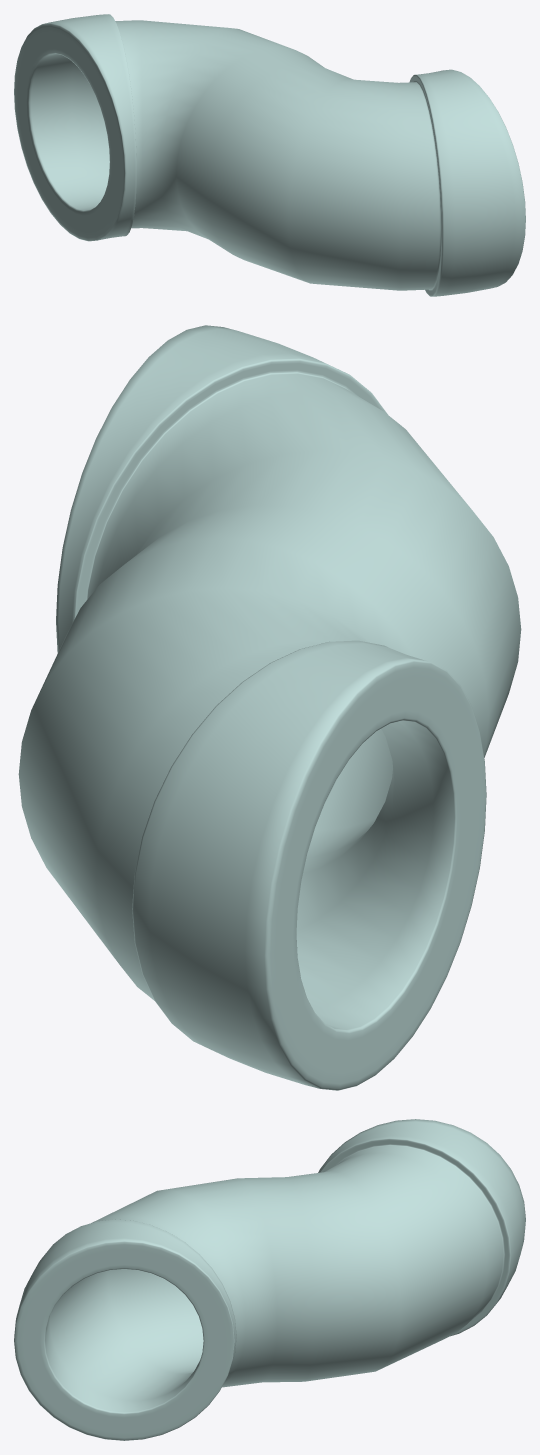
Rendered from pipe_v1_offset.FBX.
The picture shows the model from 3 angles, top to bottom: view 1: azimuth 30°, elevation 25°; view 2: azimuth 150°, elevation 25°; view 3: azimuth 270°, elevation 25°; orthographic projection. The views are drawn at different scales.
Parts seen in each view (by area): view 1: Object011; view 2: Object011; view 3: Object011.
Part boxes in pixels (x1,y1,x2,y2): Object011: (14, 14, 525, 296); Object011: (18, 325, 521, 1090); Object011: (14, 1119, 525, 1440).
Bounding box in the file's own units: 121 × 91.68 × 213.
